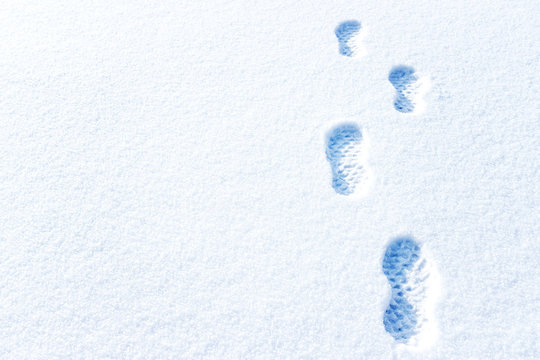human_footprint: (361, 228, 443, 336), (325, 114, 373, 204), (382, 55, 432, 112), (326, 14, 370, 63)
